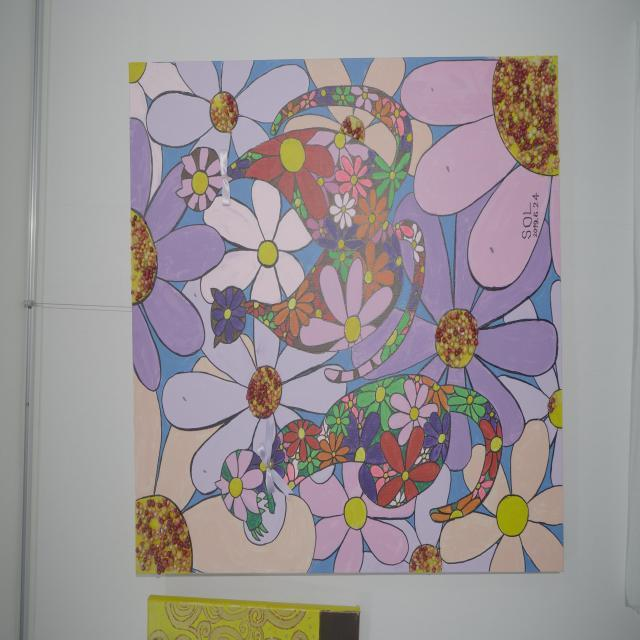painting: (129, 57, 563, 573)
